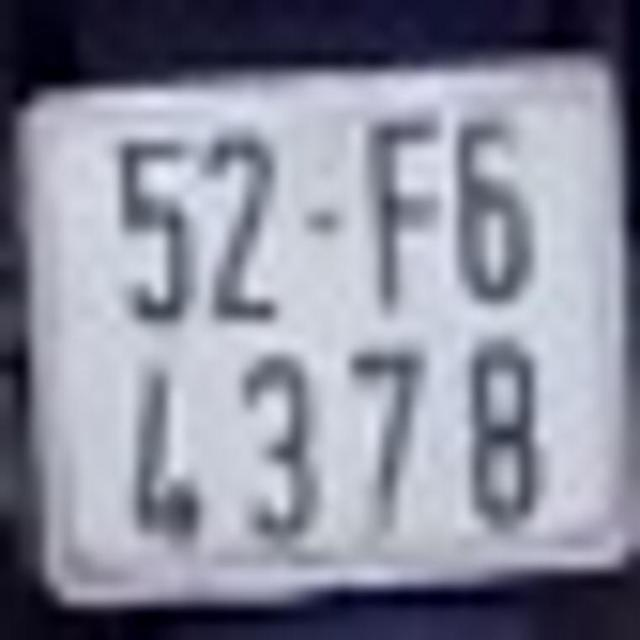2: (196, 133, 286, 324)
3: (235, 345, 325, 545)
4: (128, 346, 210, 557)
5: (116, 129, 190, 322)
6: (456, 111, 535, 306)
7: (349, 344, 426, 542)
8: (460, 324, 543, 542)
F: (360, 105, 452, 320)
